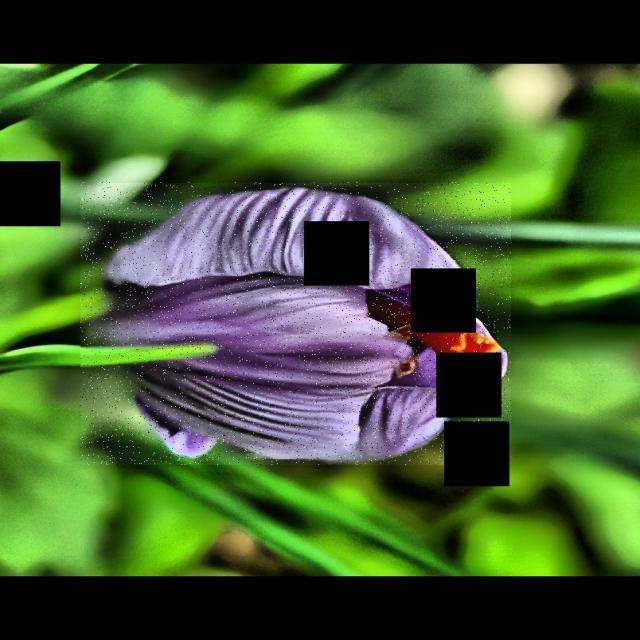Flower: (77, 182, 507, 464)
